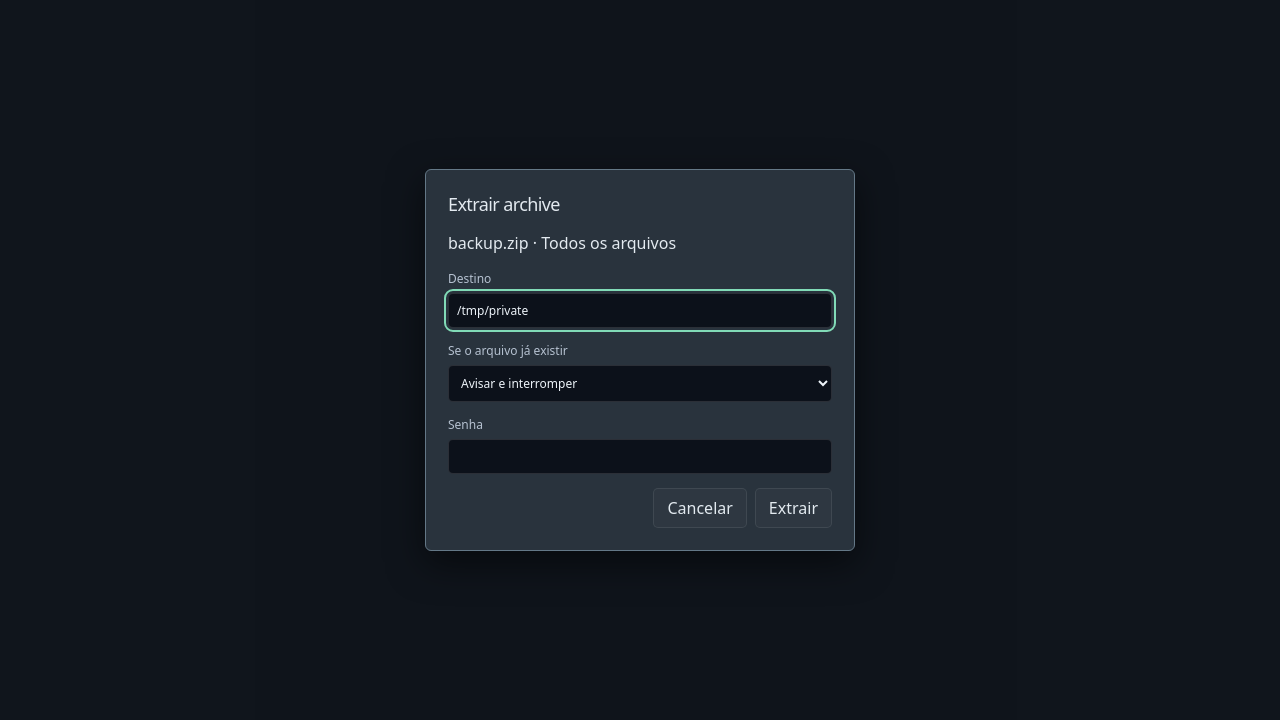
keeps an encrypted extraction open after a wrong password and clears the secret
The image size is (1280, 720).
Type "wrong-secret" into the password field labelled "Senha" at (640, 457), box [448,439,832,474]
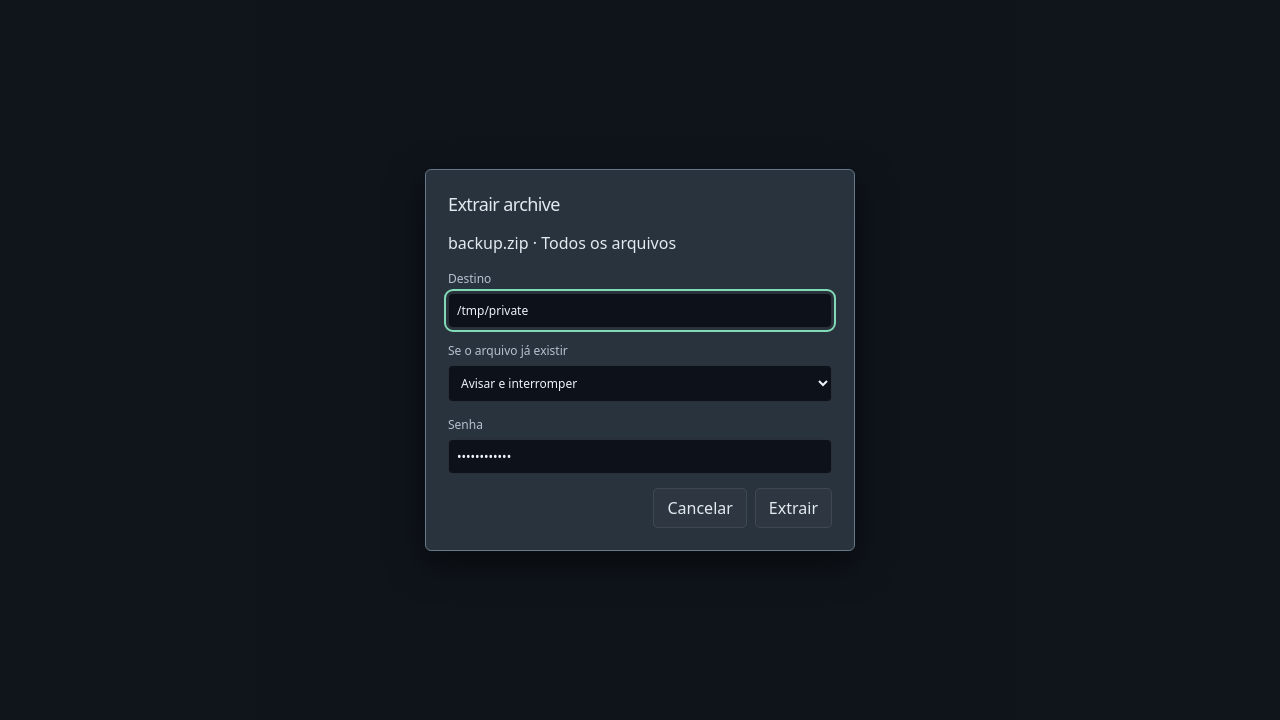
Click the button "Extrair" at (793, 508), box [755,488,832,528]
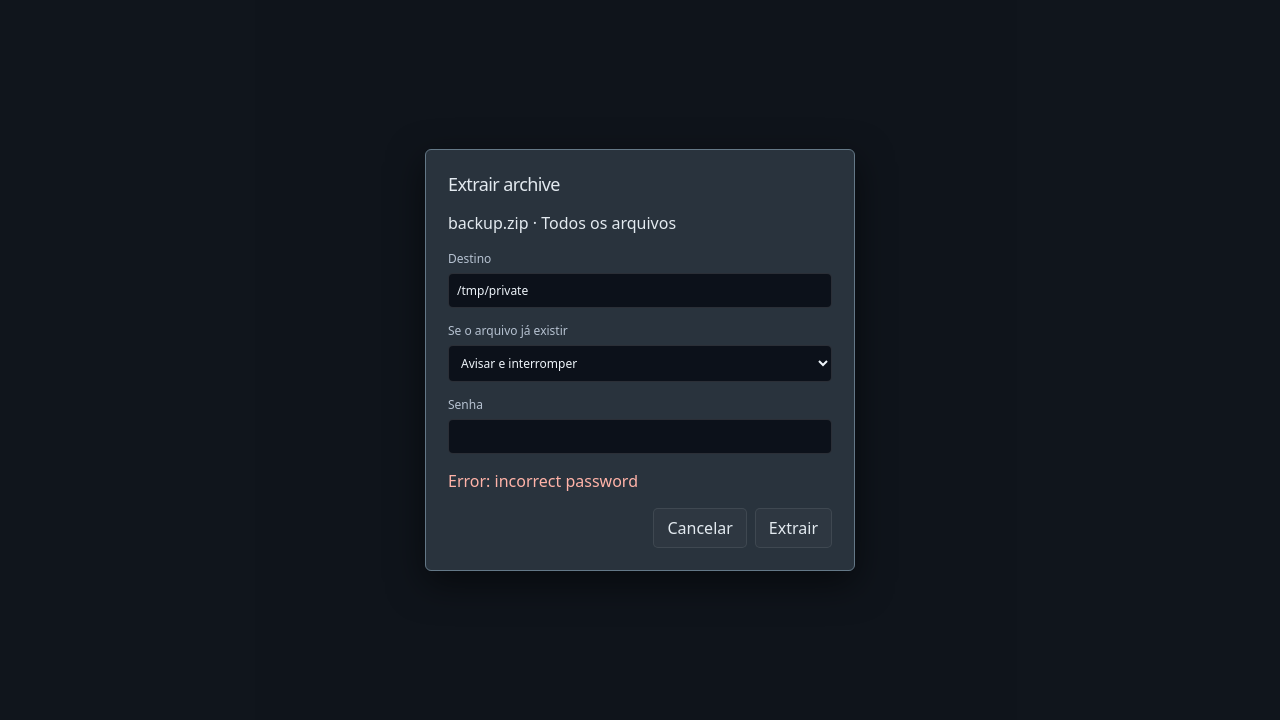
Expected: the dialog is shown, [425,149,855,571]
Expected: the message shows "incorrect password", [448,470,638,492]
Expected: the password field labelled "Senha" is empty, [448,419,832,454]
